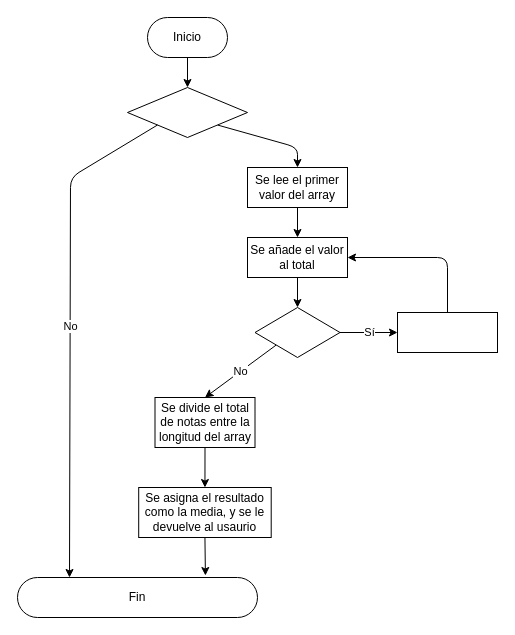
This 515x635 diagram has some shape labels left out. The centre of each missing label's shape, as x and y in pixels:
Es la longitud del array mayor a 0?: [187,112]
Quedan más valores?: [297,332]
Se pasa al siguiente valor: [447,332]
